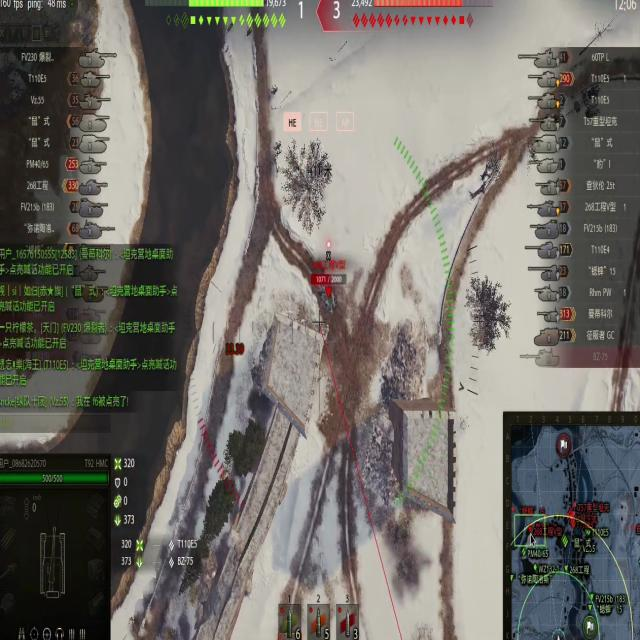tank: (303, 275, 352, 313)
